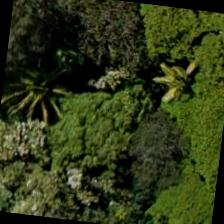Kelapa_Sawit: (4, 26, 104, 126), (127, 30, 223, 131)
